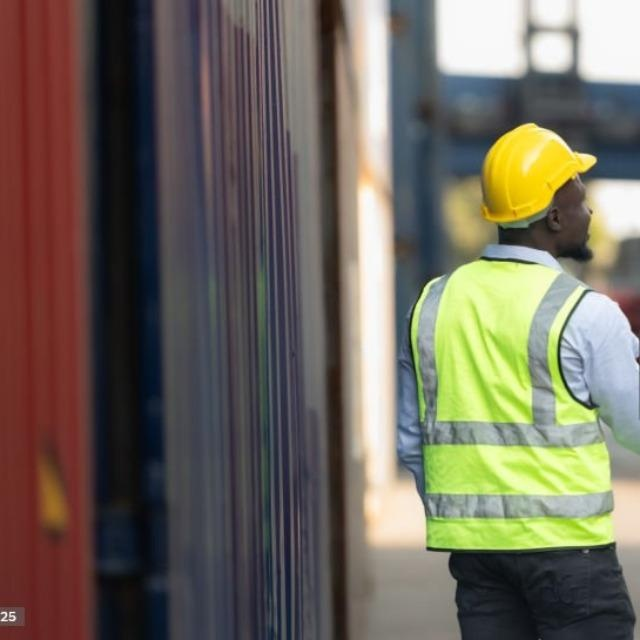Con_Casco: (482, 122, 600, 260)
Con_Chaleco: (408, 253, 613, 550)
